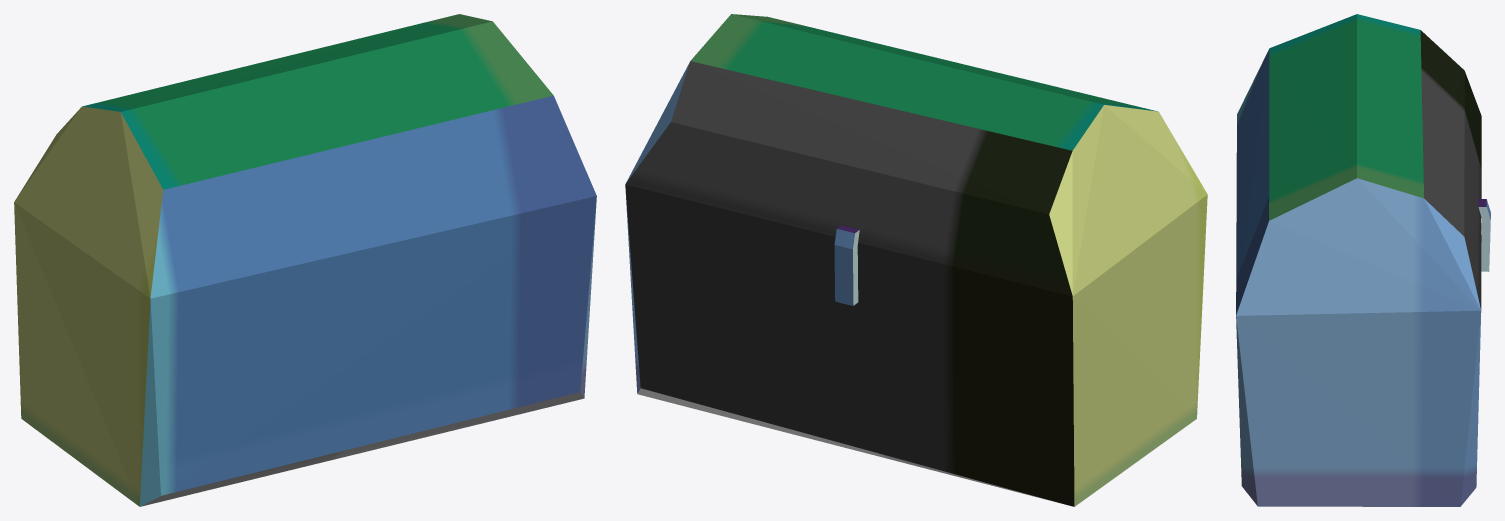
File: chest.fbx
3 renders of one model, left to right at view 1: azimuth 30°, elevation 25°; view 2: azimuth 150°, elevation 25°; view 3: azimuth 270°, elevation 25°, orthographic. The views are drawn at different scales.
Visible parts, largest first — view 1: chest; view 2: chest; view 3: chest.
Boxes of the visible parts, bbox=[...] form: chest: bbox=[14, 14, 596, 506]; chest: bbox=[625, 14, 1207, 506]; chest: bbox=[1236, 14, 1490, 506].
Size of the model in its own units: 0.8788 by 0.6514 by 0.4809.
